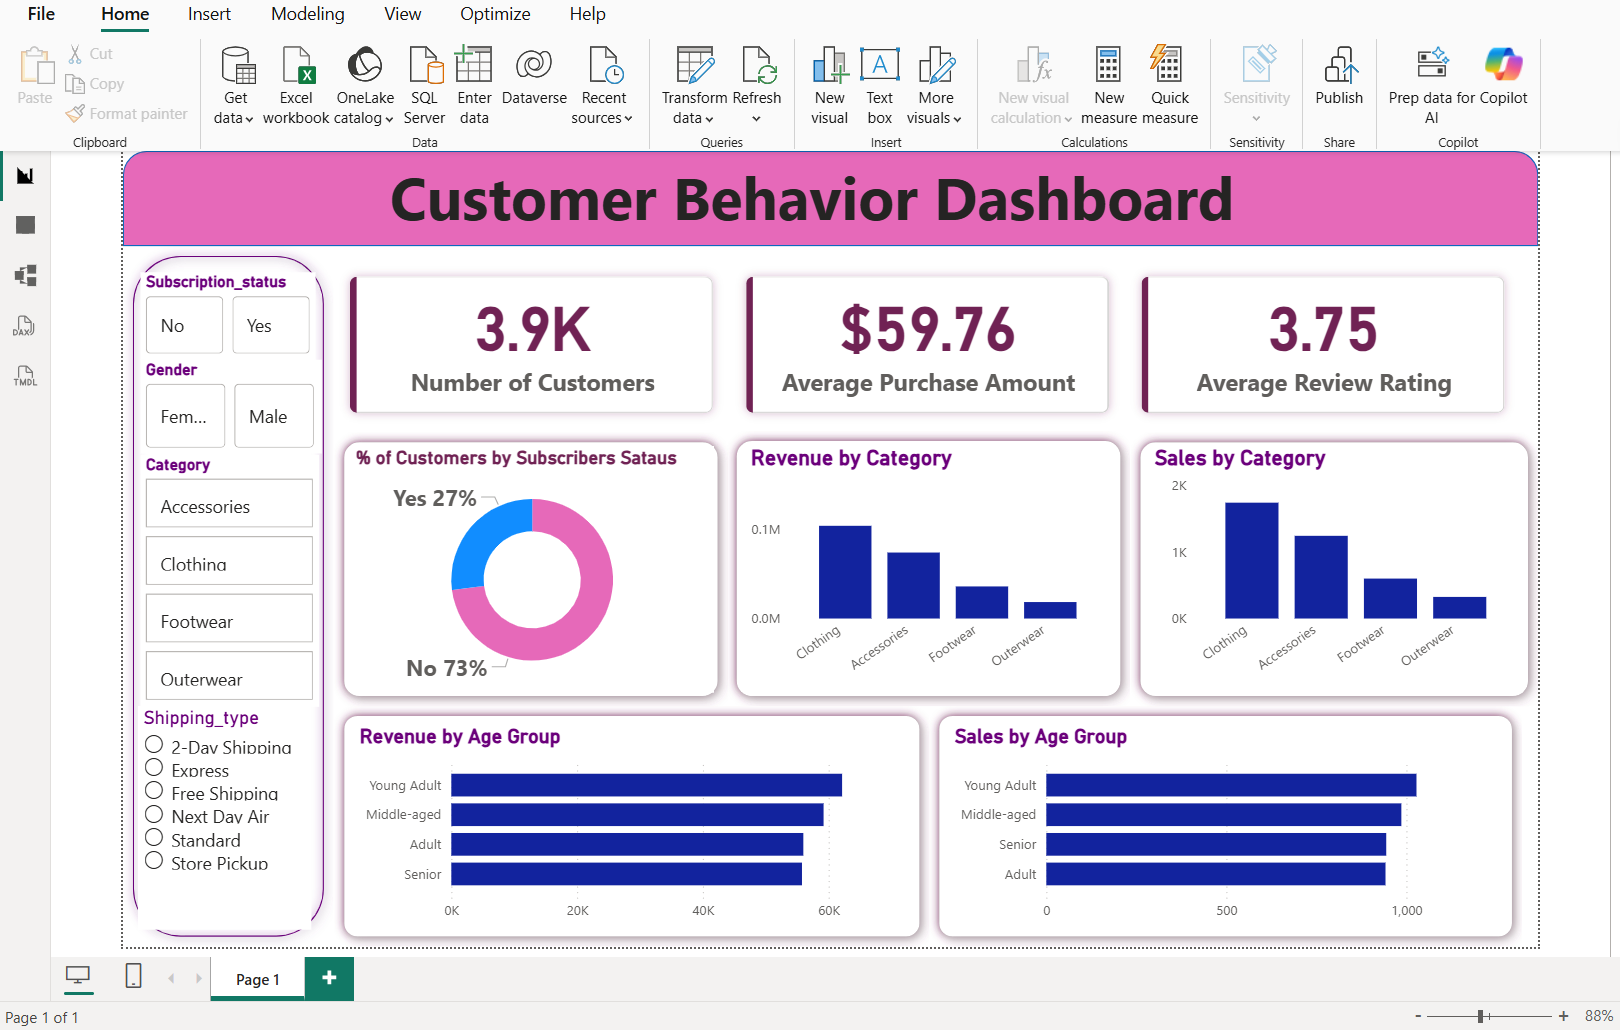

The dashboard page shown, as its layout file describes it:
{"tool":"powerbi","page":{"name":"Page 1","canvas":[1280,720],"ordinal":0},"visuals":[{"type":"cardVisual","fields":{"Data":["public customer.Number of Customers","public customer.Average Purchase Amount","public customer.Average Review Rating"]},"box":[177.9,86,1102.3,179.1],"z":0},{"type":"shape","box":[0,0,1280.2,86],"z":1000},{"type":"textbox","box":[0,0,1246.5,86],"z":2000},{"type":"shape","box":[190.7,254.7,355.8,247.7],"z":3000},{"type":"donutChart","title":"% of Customers by Subscribers Sataus","fields":{"Category":["public customer.subscription_status"],"Y":["CountNonNull(public customer.customer_id)"]},"box":[205.8,266.3,329.1,223.3],"z":4000},{"type":"shape","box":[911.6,254.7,368.6,247.7],"z":5000},{"type":"shape","box":[546.5,253.5,365.1,248.8],"z":6000},{"type":"clusteredColumnChart","title":"Revenue by Category","fields":{"Y":["Sum(public customer.purchase_amount)"],"Category":["public customer.category"]},"box":[562.8,266.3,331.4,223.3],"z":7000},{"type":"clusteredColumnChart","title":"Sales by Category","fields":{"Y":["CountNonNull(public customer.customer_id)"],"Category":["public customer.category"]},"box":[927.9,266.3,337.2,223.3],"z":8000},{"type":"shape","box":[0,86,190.7,633.7],"z":9000},{"type":"advancedSlicerVisual","fields":{"Values":["public customer.subscription_status"]},"box":[16.3,109.3,158.1,79.1],"z":10000},{"type":"advancedSlicerVisual","fields":{"Values":["public customer.gender"]},"box":[16.3,188.4,164,84.9],"z":11000},{"type":"advancedSlicerVisual","fields":{"Values":["public customer.category"]},"box":[16.3,274.4,161.6,227.9],"z":12000},{"type":"listSlicer","fields":{"Values":["public customer.shipping_type"]},"box":[14,502.3,157,202.3],"z":13000},{"type":"shape","box":[190.7,502.3,538.4,217.4],"z":14000},{"type":"clusteredBarChart","title":"Revenue by Age Group","fields":{"Y":["Sum(public customer.purchase_amount)"],"Category":["public customer.age_group"]},"box":[209.3,518.6,501.2,186],"z":15000},{"type":"shape","box":[729.1,502.3,536,217.4],"z":16000},{"type":"clusteredBarChart","title":"Sales by Age Group","fields":{"Y":["CountNonNull(public customer.customer_id)"],"Category":["public customer.age_group"]},"box":[747.7,518.6,498.8,186],"z":17000}]}

Visuals, with their boxes on the page's 1280x720 design canvas (x1, y1, x2, y2). These are canvas units, not pixel positions in the 1620x1030 screenshot, which may show the page scaled, cropped or inside an application window:
cardVisual - public customer.Number of Customers x public customer.Average Purchase Amount: region(178, 86, 1280, 265)
shape: region(0, 0, 1280, 86)
textbox: region(0, 0, 1246, 86)
shape: region(191, 255, 546, 502)
"% of Customers by Subscribers Sataus" donutChart: region(206, 266, 535, 490)
shape: region(912, 255, 1280, 502)
shape: region(546, 254, 912, 502)
"Revenue by Category" clusteredColumnChart: region(563, 266, 894, 490)
"Sales by Category" clusteredColumnChart: region(928, 266, 1265, 490)
shape: region(0, 86, 191, 720)
advancedSlicerVisual - public customer.subscription_status: region(16, 109, 174, 188)
advancedSlicerVisual - public customer.gender: region(16, 188, 180, 273)
advancedSlicerVisual - public customer.category: region(16, 274, 178, 502)
listSlicer - public customer.shipping_type: region(14, 502, 171, 705)
shape: region(191, 502, 729, 720)
"Revenue by Age Group" clusteredBarChart: region(209, 519, 710, 705)
shape: region(729, 502, 1265, 720)
"Sales by Age Group" clusteredBarChart: region(748, 519, 1246, 705)
